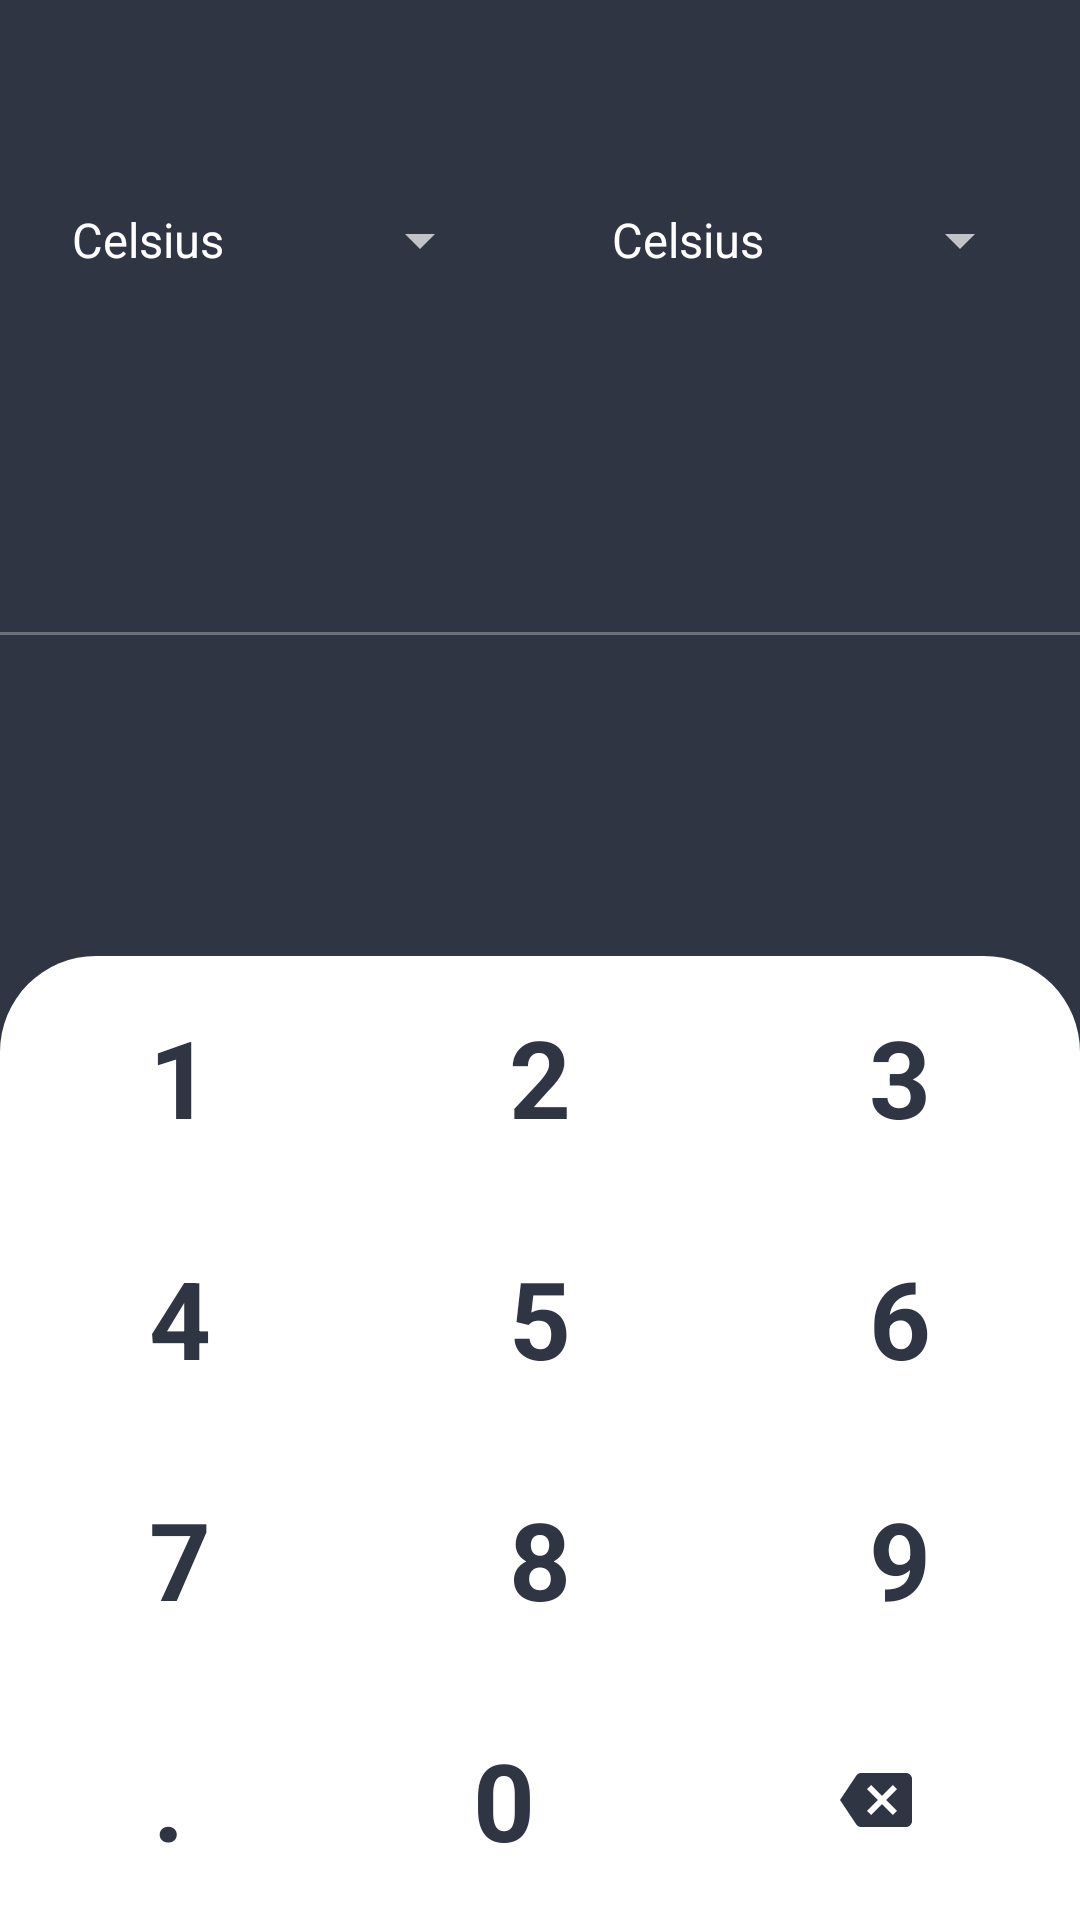

Where icons sit on this 1080 x 1920 app screen, as (x1, y1, x2, y2):
backspace: (840, 1773, 912, 1827)
